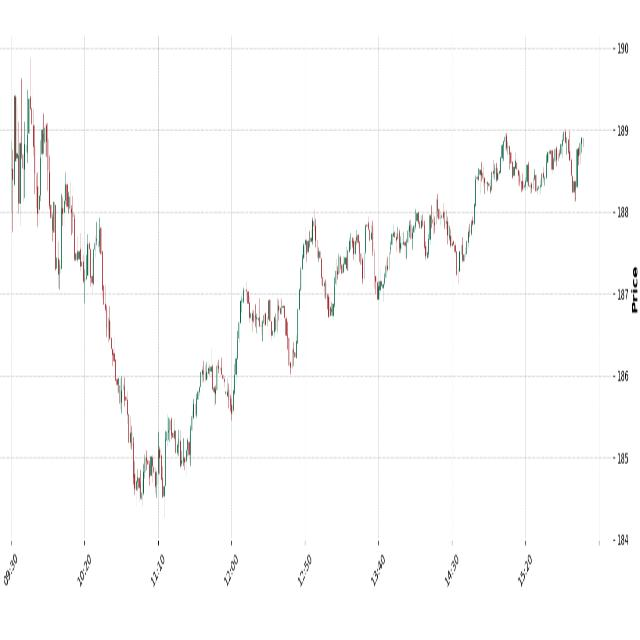Channel-down: (0, 41, 108, 325), (92, 261, 145, 490)
Channel-up: (122, 27, 599, 522)
